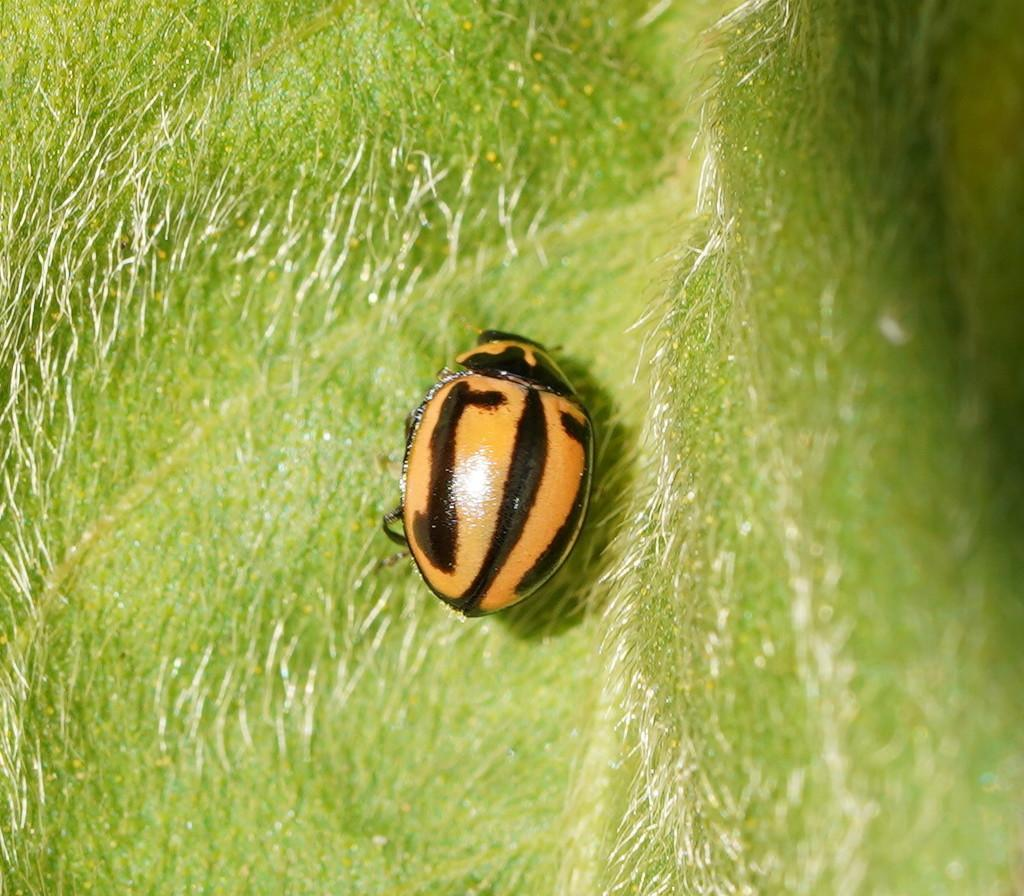ladybug: (379, 321, 601, 621)
